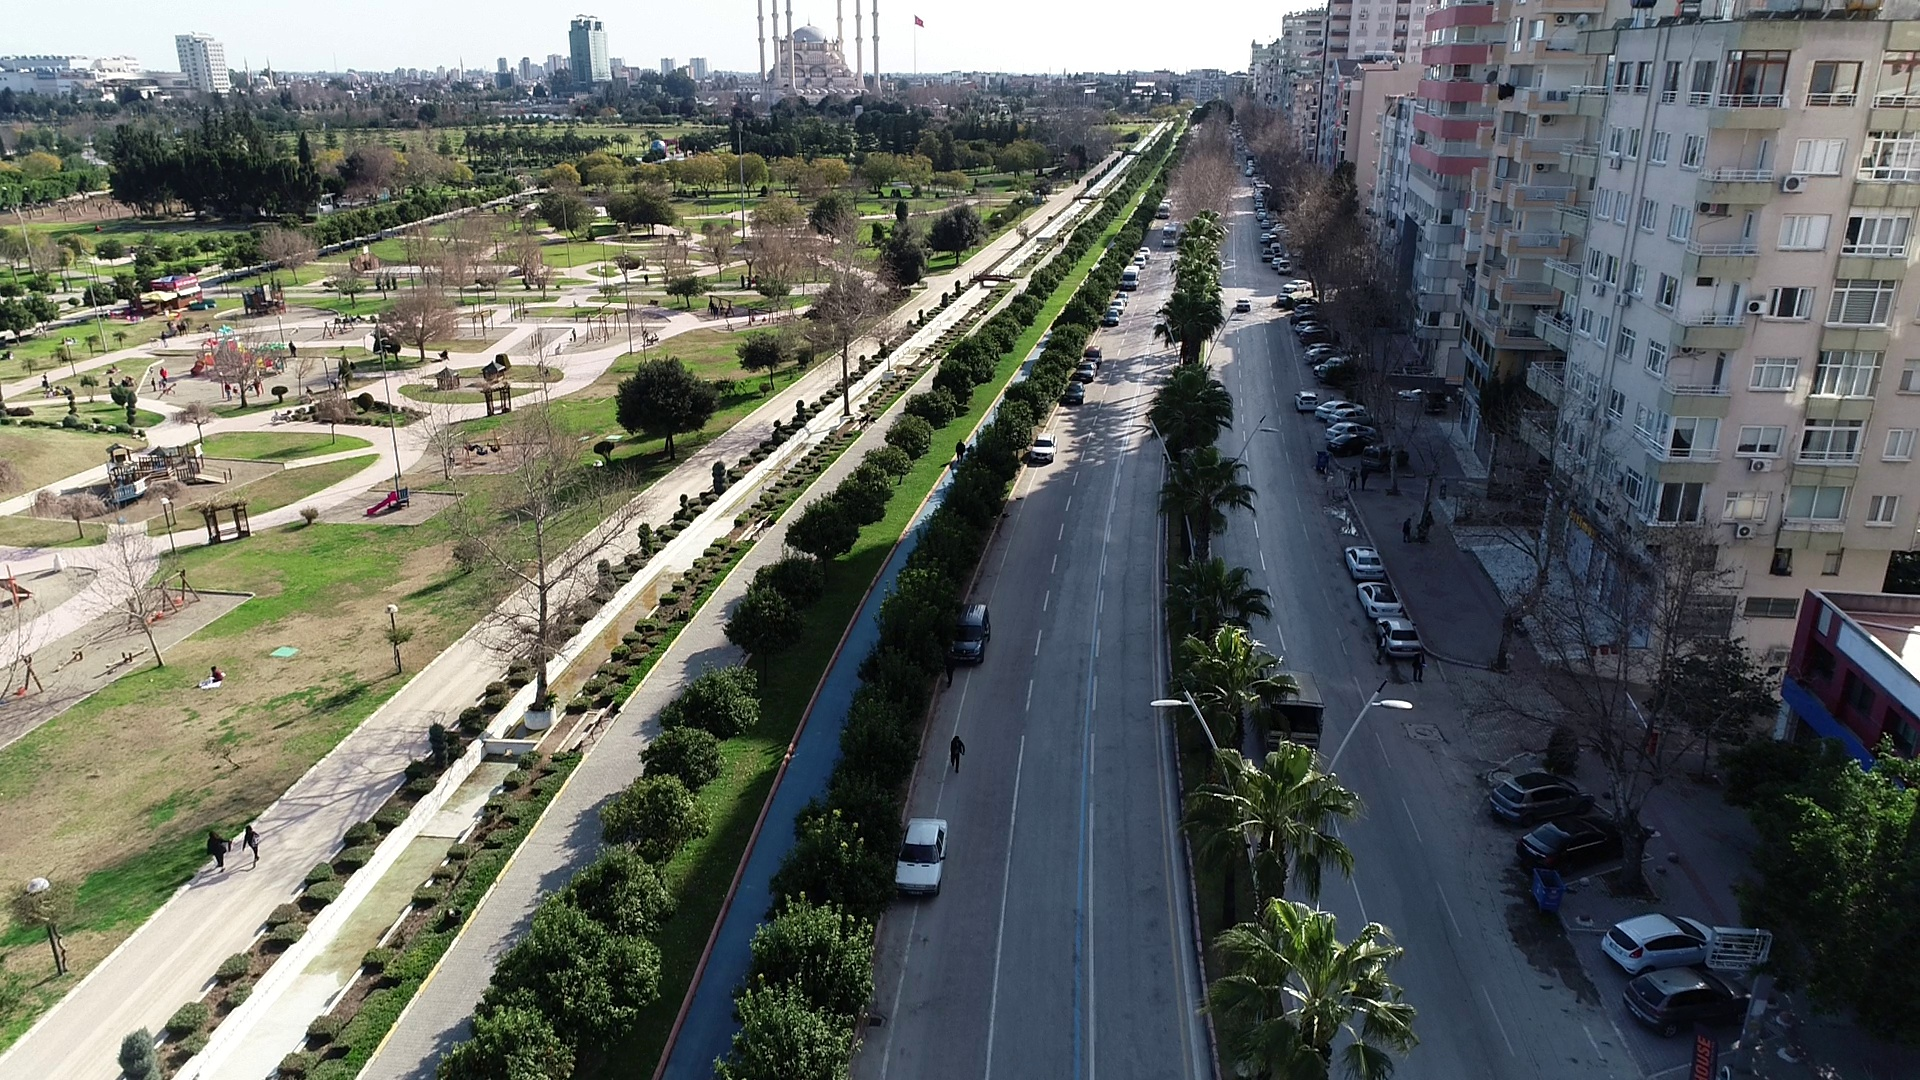car: (1627, 974, 1792, 1037), (1592, 902, 1739, 970), (1513, 802, 1639, 880), (884, 808, 961, 908), (1474, 768, 1598, 826), (941, 598, 996, 676), (1374, 612, 1435, 663), (1339, 578, 1414, 617), (1341, 545, 1390, 586), (1031, 437, 1057, 468)
person: (200, 821, 235, 880), (239, 814, 268, 872), (947, 731, 968, 780), (1415, 506, 1437, 545), (1392, 512, 1415, 549), (1408, 649, 1433, 680), (1378, 629, 1394, 674), (208, 663, 233, 688)
